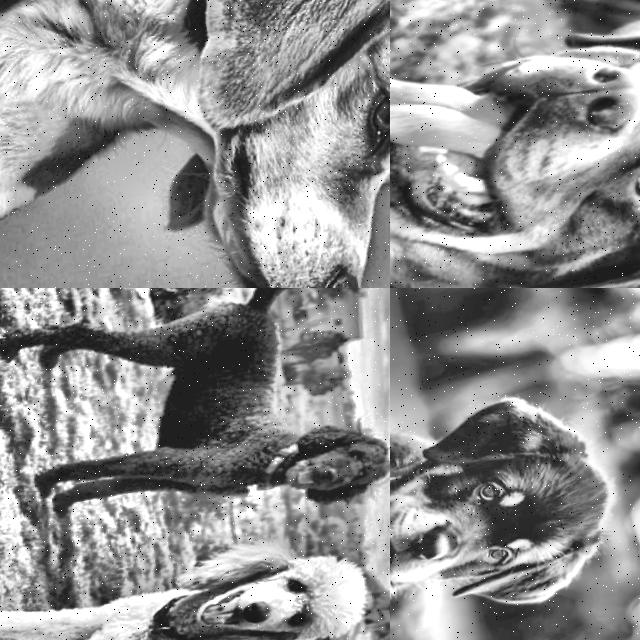beagle: (64, 0, 390, 288)
poodle: (130, 509, 390, 640), (229, 373, 390, 535)
rottweiler: (390, 0, 640, 288), (390, 353, 640, 640)
